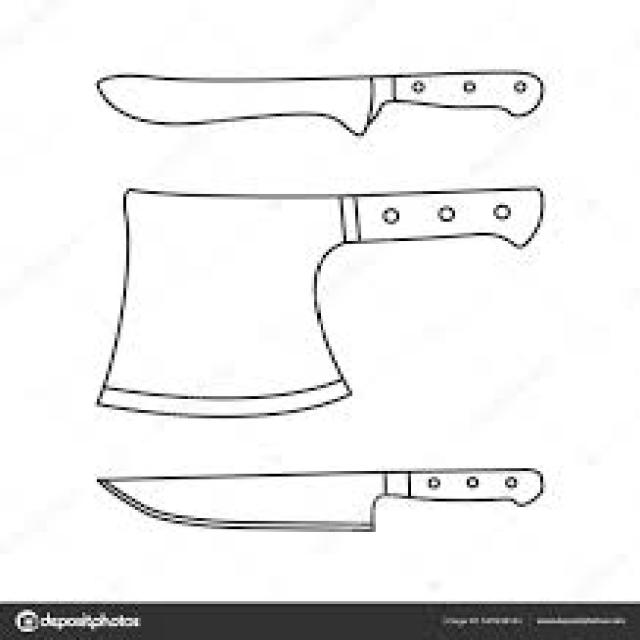Knife: (94, 69, 543, 136), (94, 465, 543, 532)
